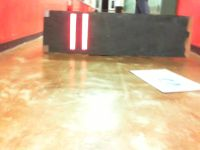switch: (81, 13, 89, 50), (69, 13, 76, 50)
